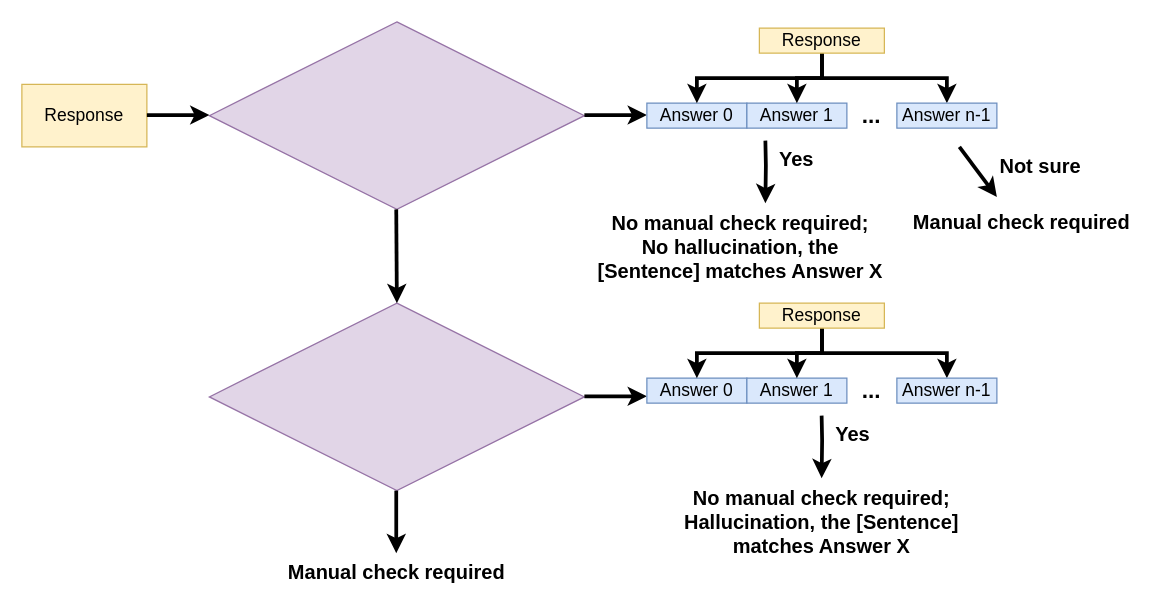
This 1169x613 diagram has some shape labels left out. Here are the shapes that lost their labels. From the top down, the box of each, then its label:
(208, 21, 584, 209): Is [Sentence] related to any sentences in [Correct Answers]?
(208, 302, 584, 491): Is [Sentence] related to any sentences in [Wrong Answers]?
